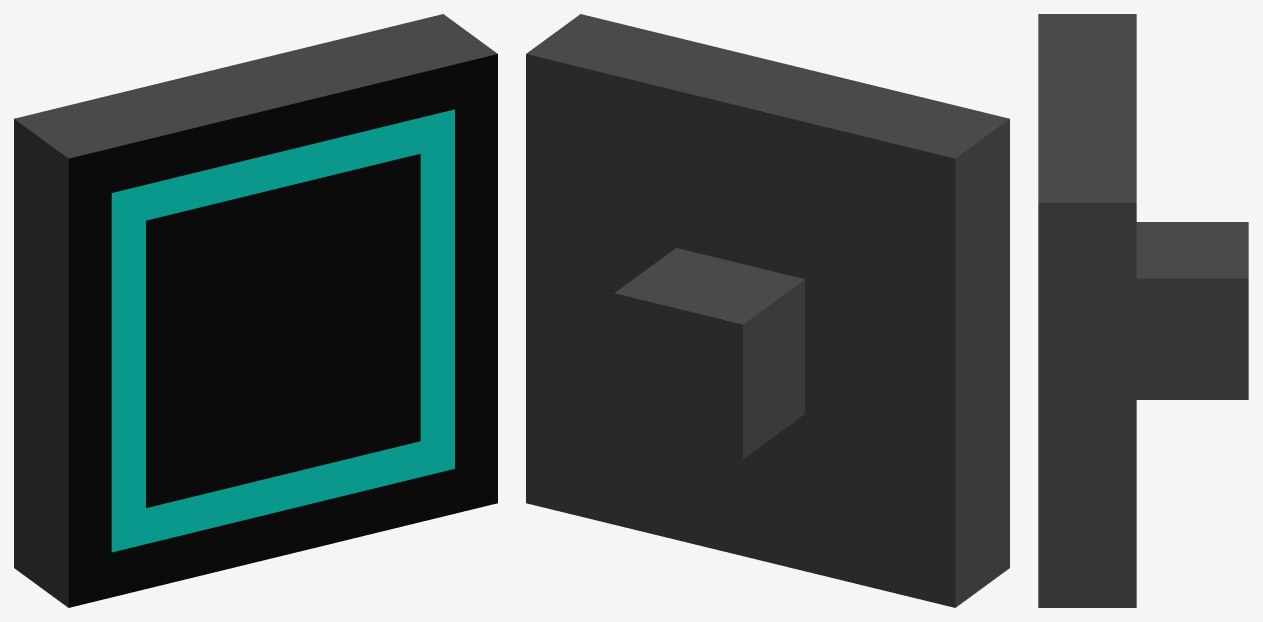
Rendered from Wall dec8.fbx.
3 renders of one model, left to right at view 1: azimuth 30°, elevation 25°; view 2: azimuth 150°, elevation 25°; view 3: azimuth 270°, elevation 25°, orthographic. The views are drawn at different scales.
Visible parts, largest first — view 1: Cube.002; view 2: Cube.002; view 3: Cube.002.
Boxes of the visible parts, x1,y1,x2,y2 form: Cube.002: (14,14,497,607); Cube.002: (526,14,1009,607); Cube.002: (1038,14,1248,607).
Size of the model in its own units: 200 by 200 by 94.03.
